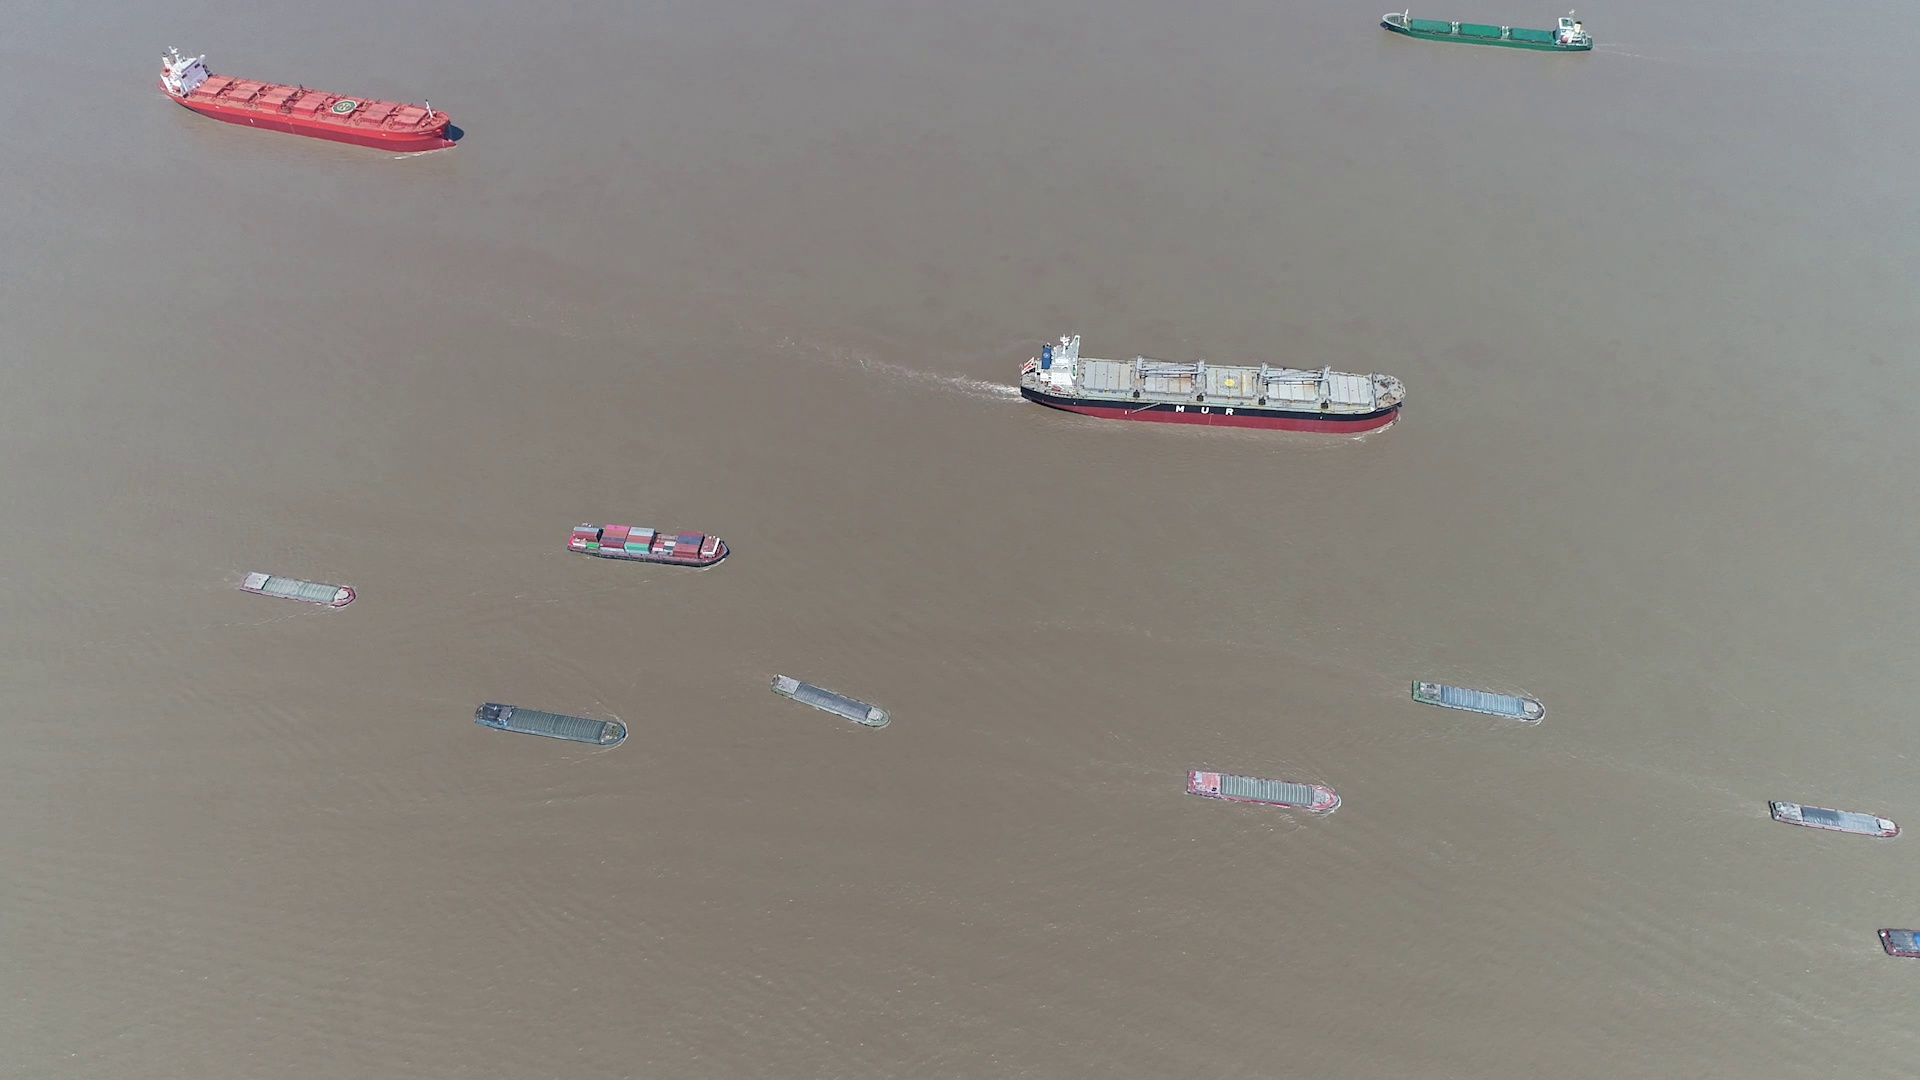ship: (1019, 334, 1407, 434), (157, 46, 458, 152), (1381, 13, 1592, 53), (1185, 767, 1341, 812), (476, 702, 629, 746), (568, 524, 729, 566), (771, 676, 887, 731), (1408, 680, 1547, 724), (1768, 799, 1902, 837), (237, 571, 356, 607), (1878, 927, 1917, 960)
